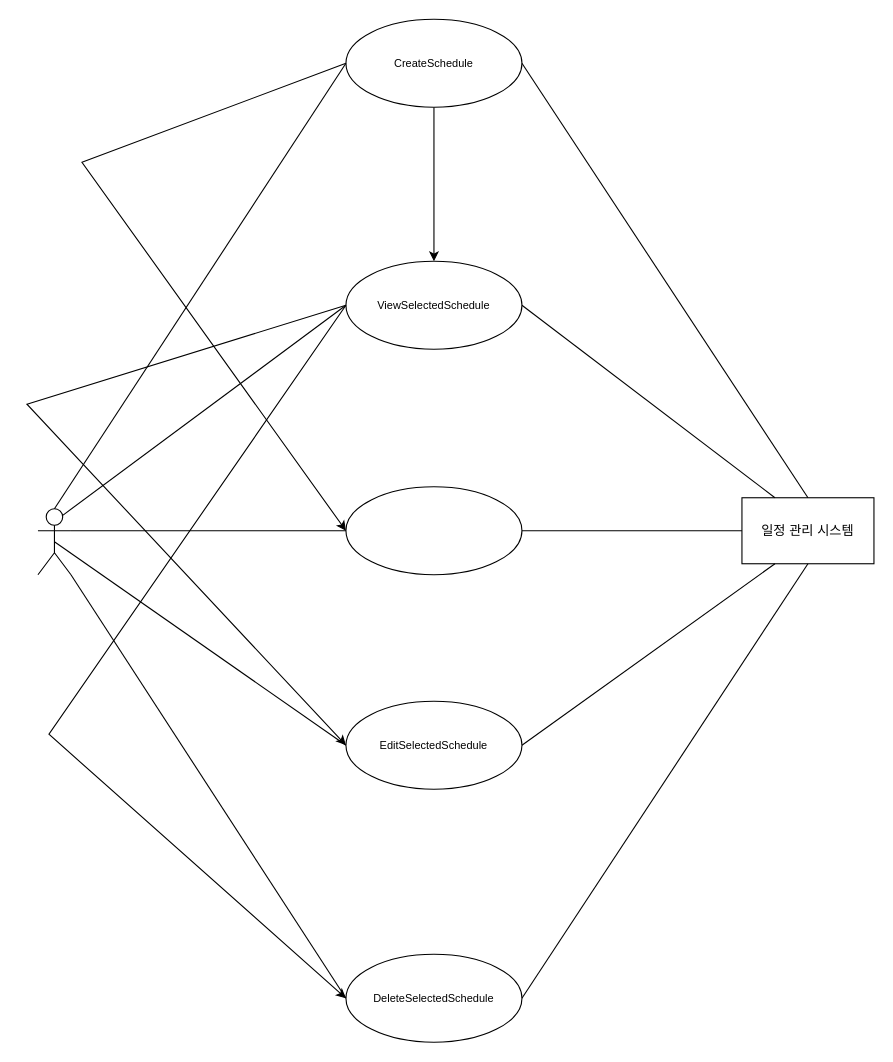
Image size: 893x1062. Some labels were removed from this diagram. Each missing label, with the centre of its shape:
"Actor" belongs at point (54, 541).
"ViewScheduleList" belongs at point (433, 530).
